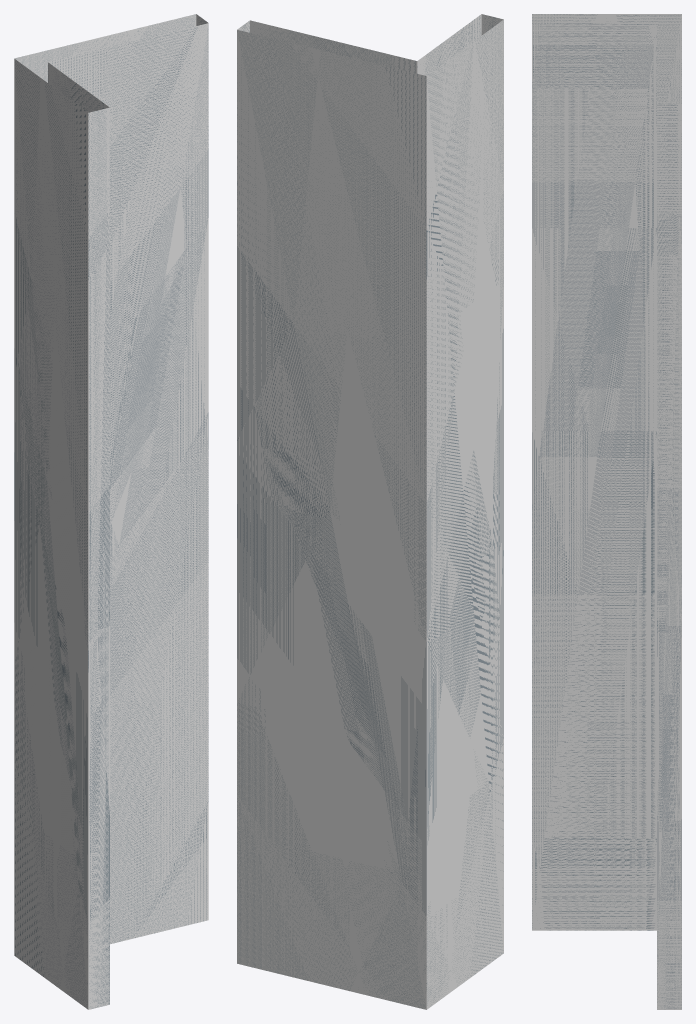
Rendered from PW_CornerFixElem_ds_T3_060x085x010x400.dae.
3 views of the same model, side by side, from view 1: azimuth 30°, elevation 25°; view 2: azimuth 150°, elevation 25°; view 3: azimuth 270°, elevation 25° (orthographic). The views are drawn at different scales.
Parts seen in each view (by area): view 1: group_0; view 2: group_0; view 3: group_0.
Part boxes in pixels (x1,y1,x2,y2): group_0: [14, 14, 208, 1009]; group_0: [237, 14, 503, 1009]; group_0: [532, 14, 681, 1009].
Bounding box in the file's own units: 33.46 × 23.62 × 157.
